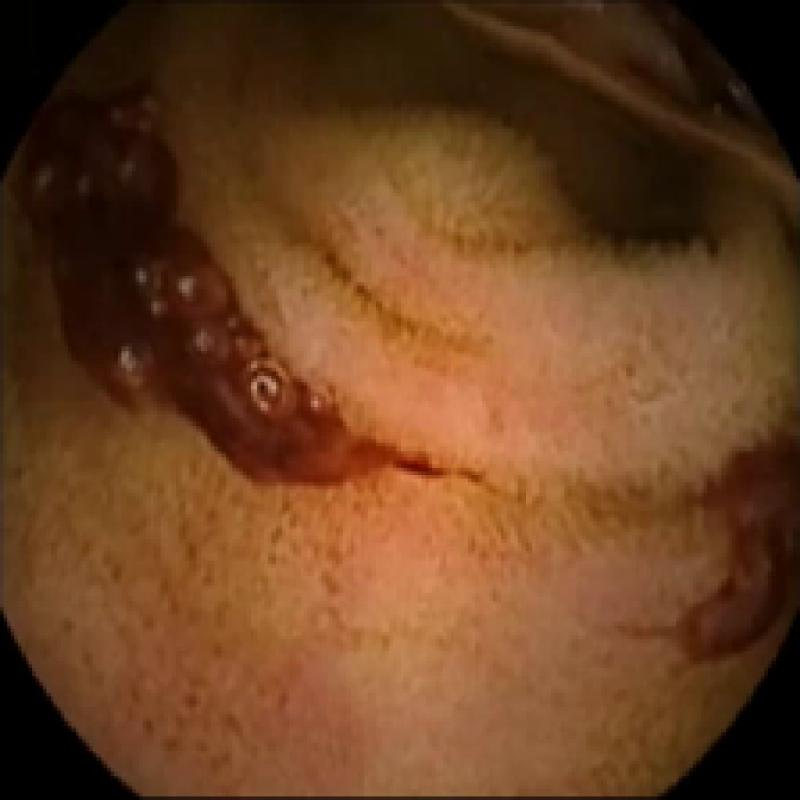bleeding: (7, 10, 497, 486), (675, 445, 800, 657)
